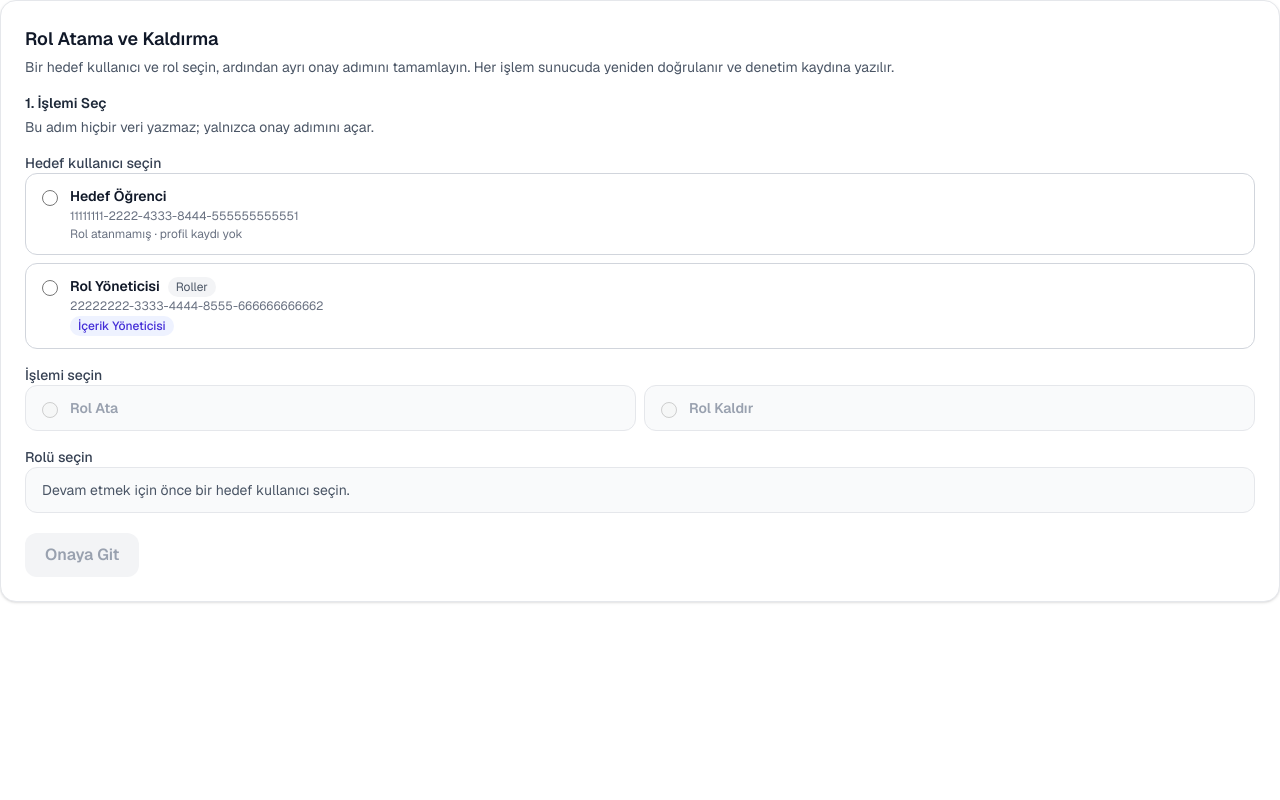
Scenario: rol kısıtlamaları › assign yalnız atanmamış rolleri sunar
Click the radio button labelled "Rol Yöneticisi" at (50, 288), box [42,280,58,296]
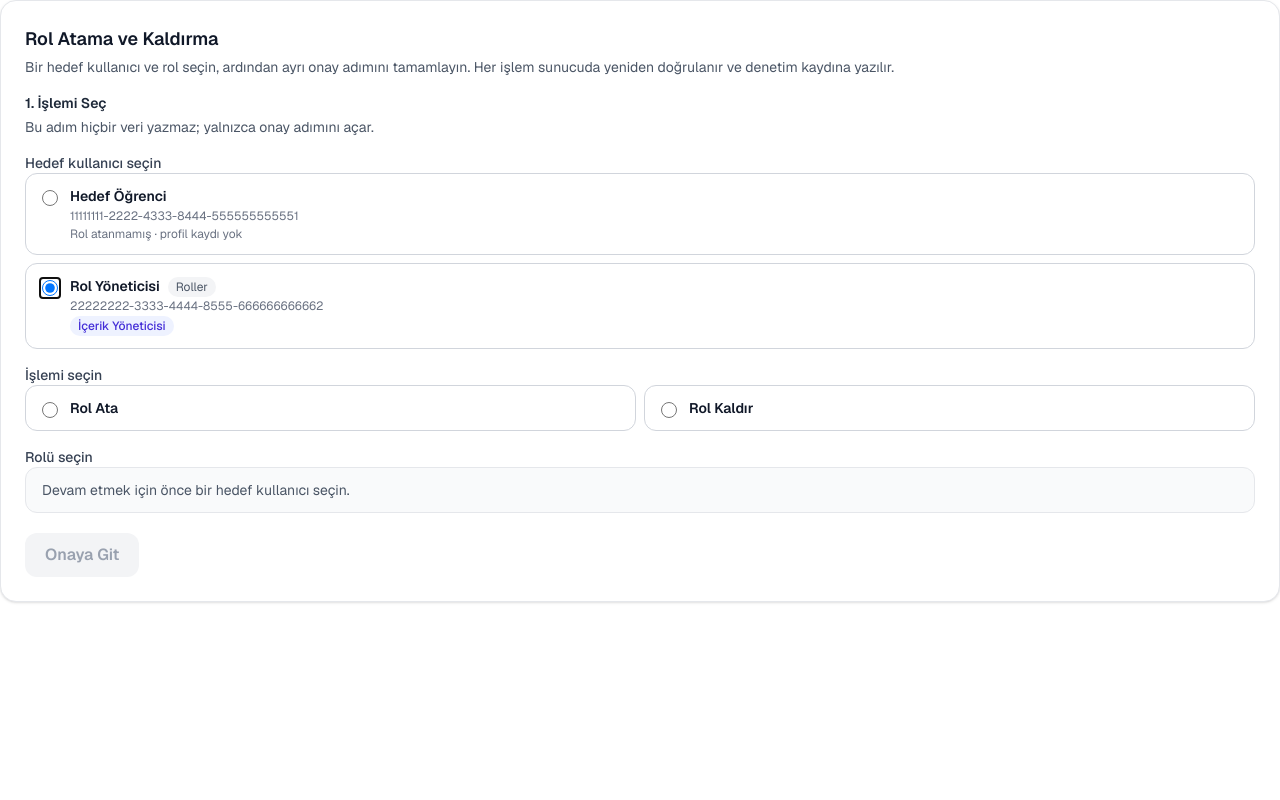
Click the radio button labelled "Rol Ata" at (50, 410), box [42,402,58,418]
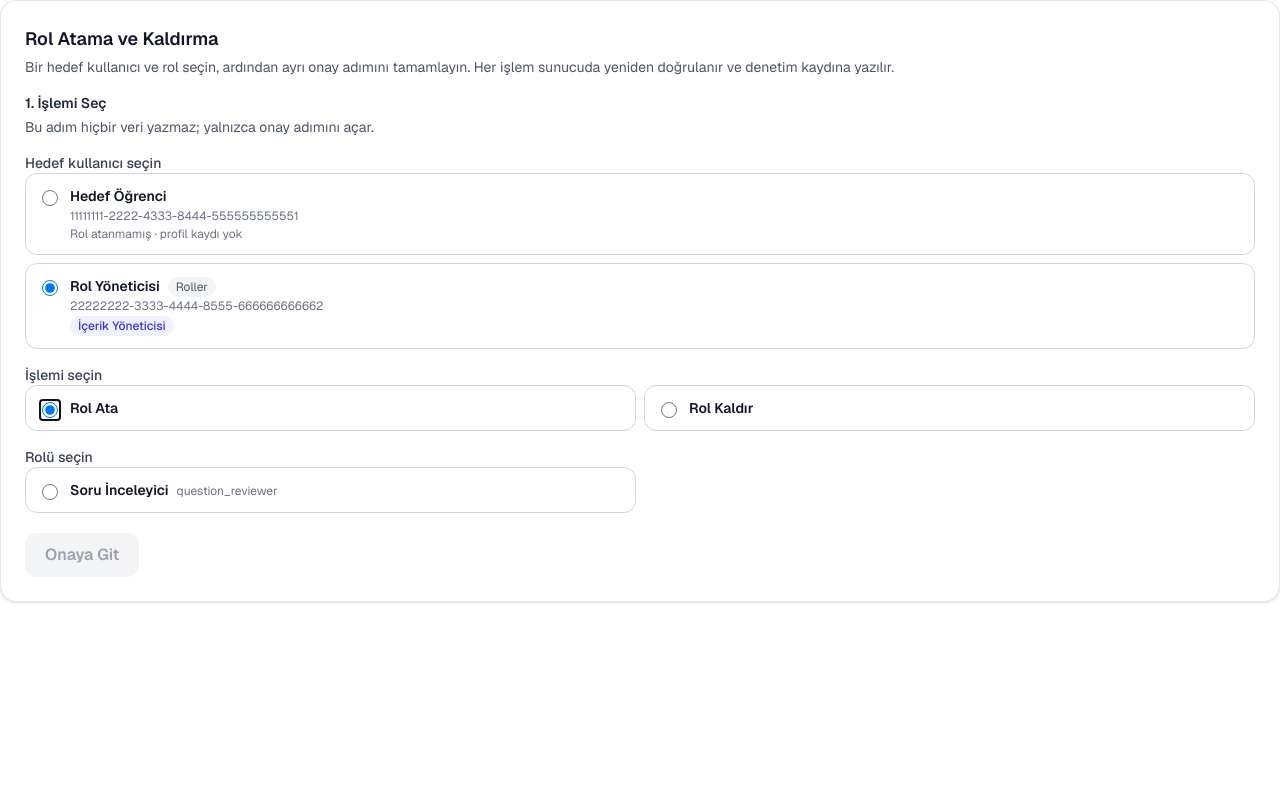
expect the radio button labelled "question_reviewer" is shown: met, box [42,484,58,500]
